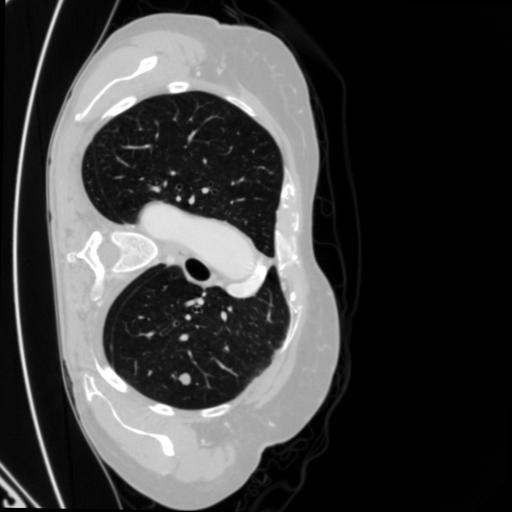nodule: (179, 374, 195, 390)
